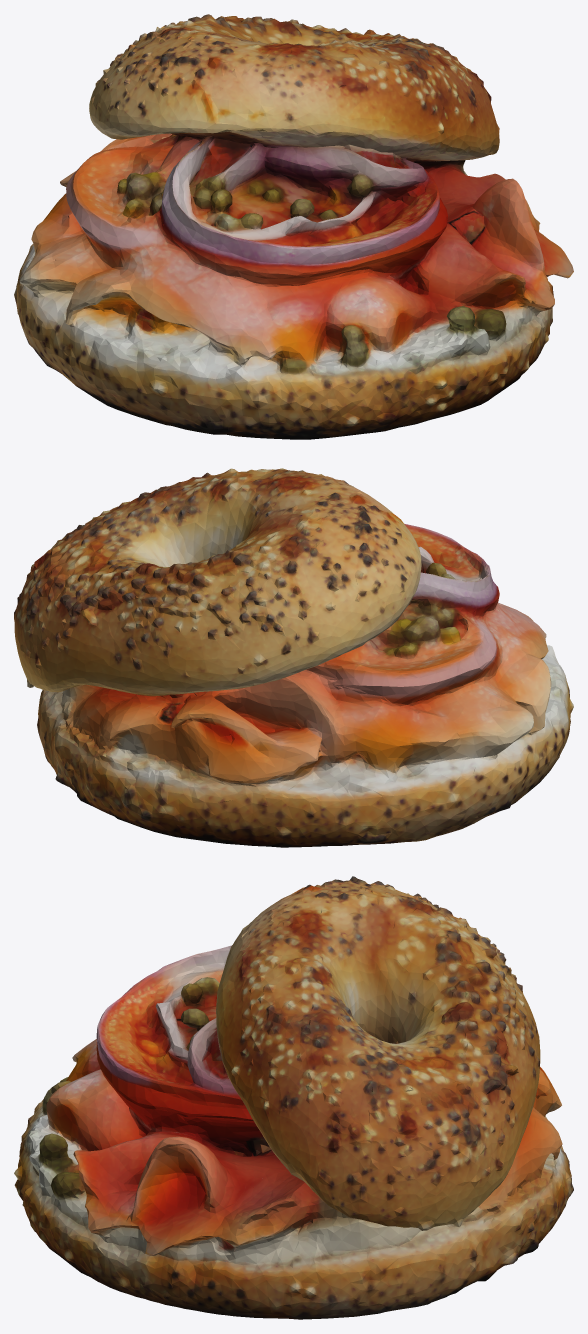
Rendered from barney_bagel.glb.
The picture shows the model from 3 angles, top to bottom: view 1: azimuth 30°, elevation 25°; view 2: azimuth 150°, elevation 25°; view 3: azimuth 270°, elevation 25°; orthographic projection. The views are drawn at different scales.
Parts seen in each view (by area): view 1: world; view 2: world; view 3: world.
Boxes of the visible parts, x1=… form: world: x1=14, y1=14, x2=573, y2=439; world: x1=14, y1=468, x2=573, y2=847; world: x1=14, y1=876, x2=573, y2=1319.
Bounding box in the file's own units: 0.9366 × 0.5291 × 0.9101.
1 material, 1 textured.
